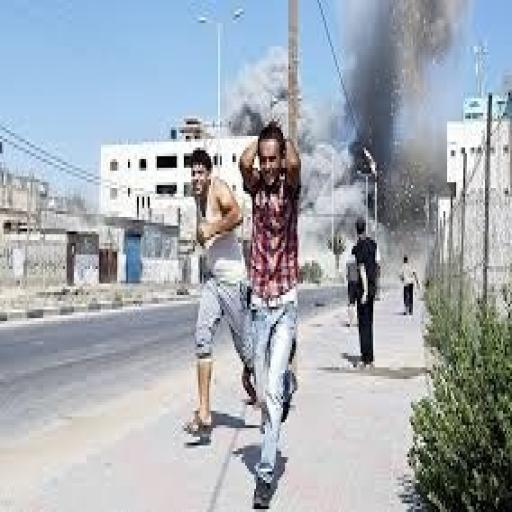running: (236, 119, 305, 509), (180, 144, 258, 446)
